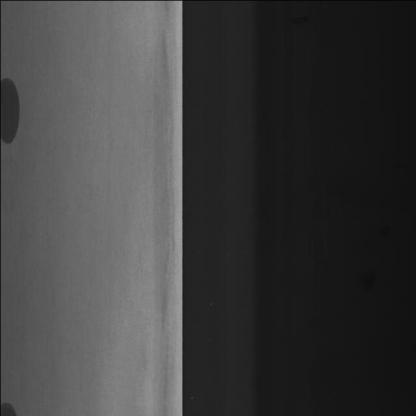oil_spot: (0, 55, 27, 168), (0, 388, 22, 416)
